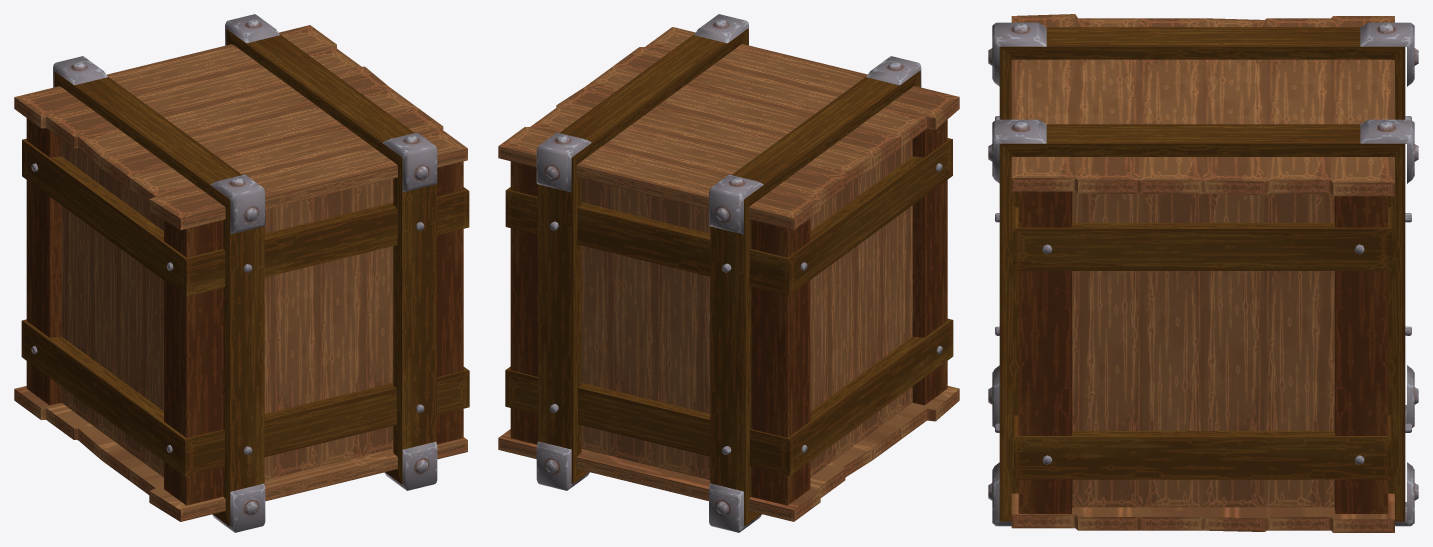
The model's file is Crate_Wooden.gltf.
3 renders of one model, left to right at view 1: azimuth 30°, elevation 25°; view 2: azimuth 150°, elevation 25°; view 3: azimuth 270°, elevation 25°, orthographic. The views are drawn at different scales.
Visible parts, largest first — view 1: Crate_Wooden; view 2: Crate_Wooden; view 3: Crate_Wooden.
Part boxes in pixels (x1=…): Crate_Wooden: x1=14, y1=14, x2=469, y2=532; Crate_Wooden: x1=498, y1=14, x2=959, y2=532; Crate_Wooden: x1=988, y1=14, x2=1418, y2=532.
Size of the model in its own units: 0.8423 by 0.9309 by 0.9083.
Materials: 2 (2 with a texture image).
